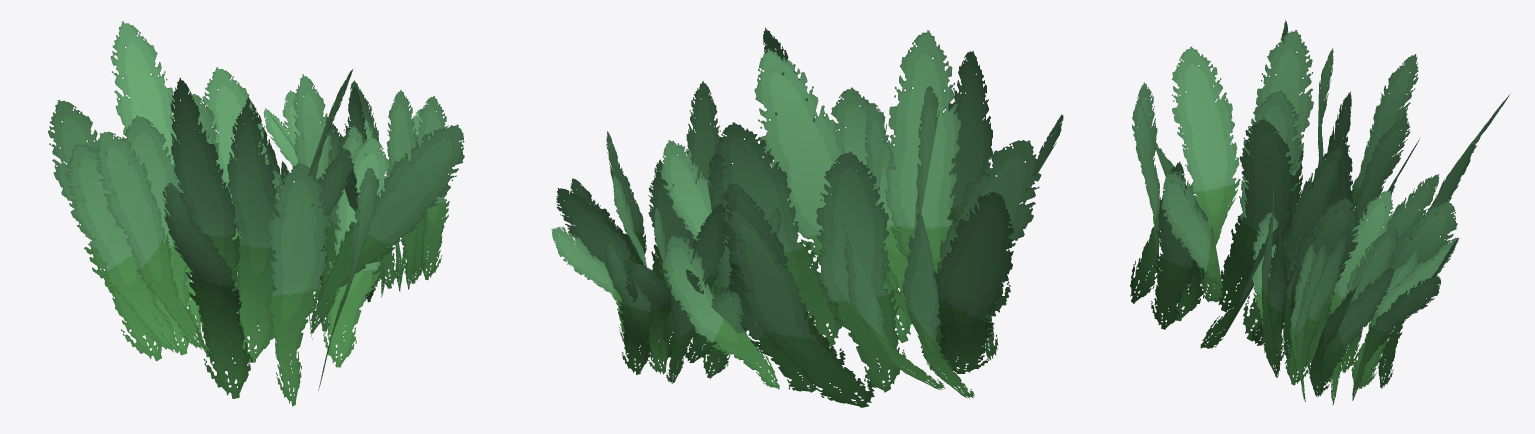
Rendered from Green Algae 4_preview_3DS_simplified.glb.
3 views of the same model, side by side, from view 1: azimuth 30°, elevation 25°; view 2: azimuth 150°, elevation 25°; view 3: azimuth 270°, elevation 25° (orthographic). The views are drawn at different scales.
Parts seen in each view (by area): view 1: Marine Park Empire model; view 2: Marine Park Empire model; view 3: Marine Park Empire model.
Part boxes in pixels (box(x1,y1,x2,y2)): Marine Park Empire model: box(48, 21, 464, 406); Marine Park Empire model: box(551, 27, 1063, 407); Marine Park Empire model: box(1130, 19, 1509, 405).
Bounding box in the file's own units: 155 × 105 × 135.
Materials: 1 (1 with a texture image).
